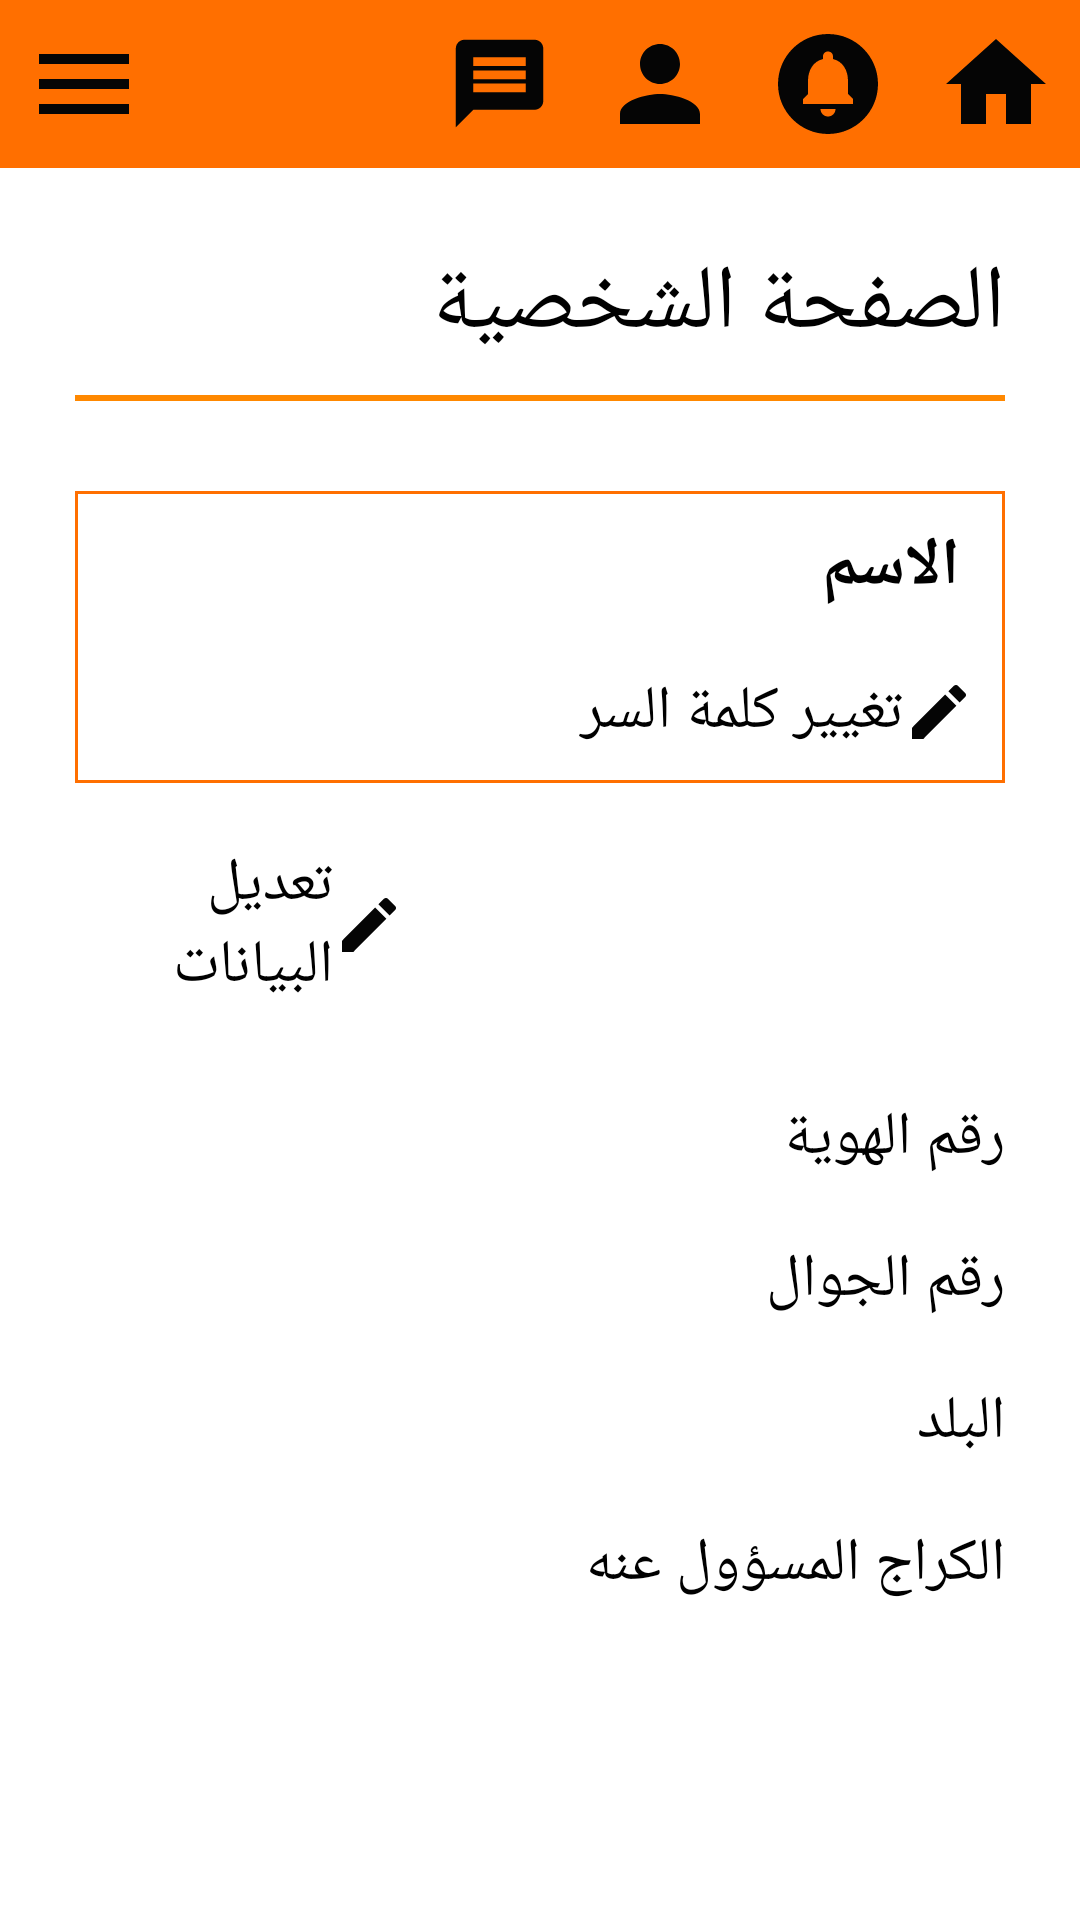

Point at icon controls on the screen. Image size 1080px×1920px, points as [x,y].
home: [996,81]
menu: [84,84]
message: [499,83]
notifications: [828,84]
person: [660,84]
